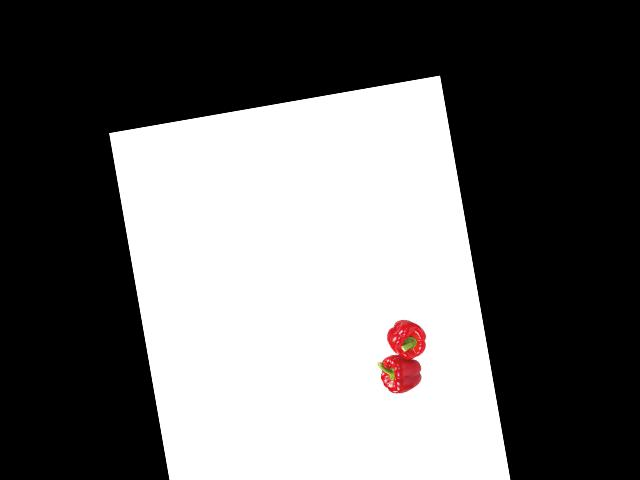bell_pepper: (374, 349, 428, 397)
